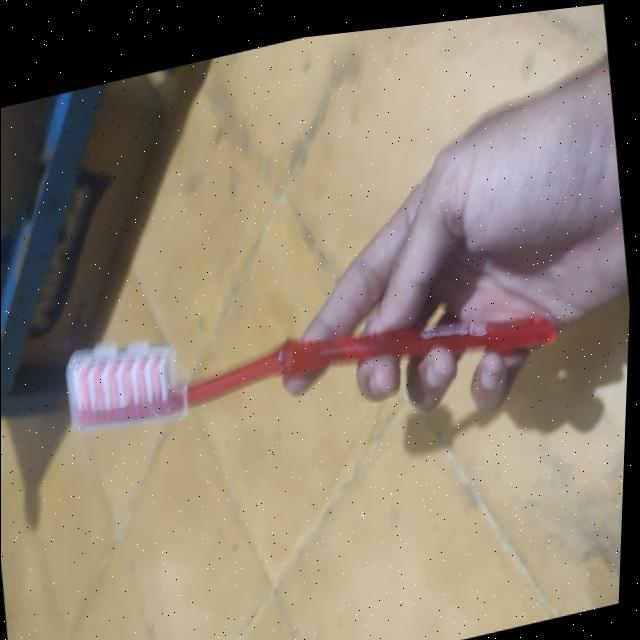toothbrush: (44, 220, 574, 500)
